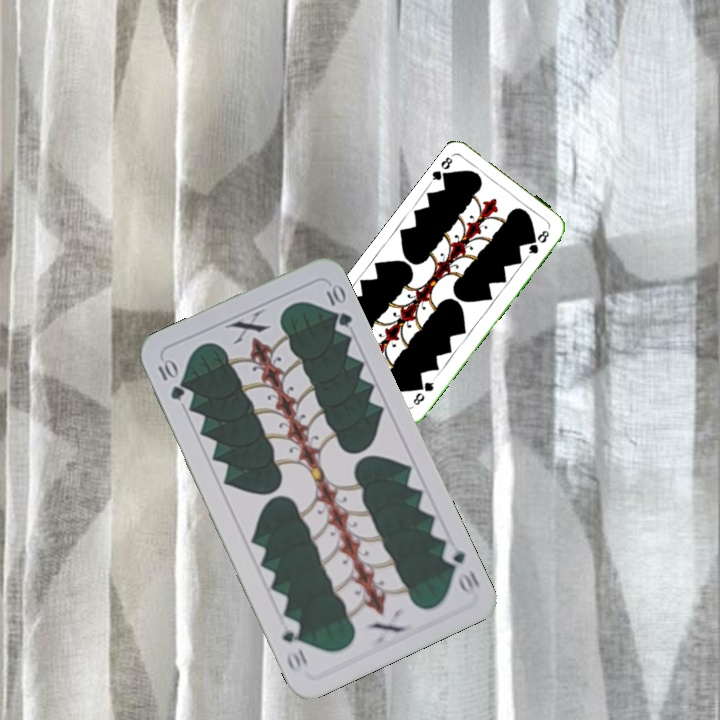G10: (438, 544, 483, 597), (153, 355, 187, 403)
G8: (427, 150, 456, 185), (409, 374, 438, 408)
